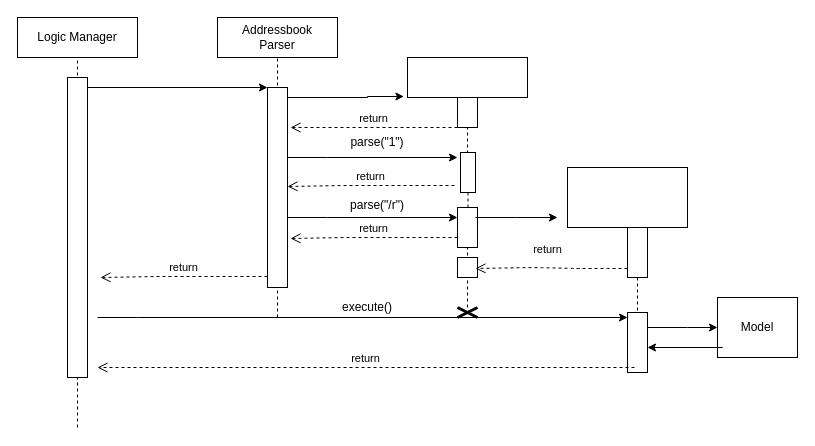
This 815x446 diagram has some shape labels left out. The shapes that lost their labels are listed below. From the top down, each one's box as (x1, y1, x2, y2) in pixels, then its label:
(406, 56, 528, 98): :RemarkCommand Parser
(566, 166, 688, 228): Remark Command
